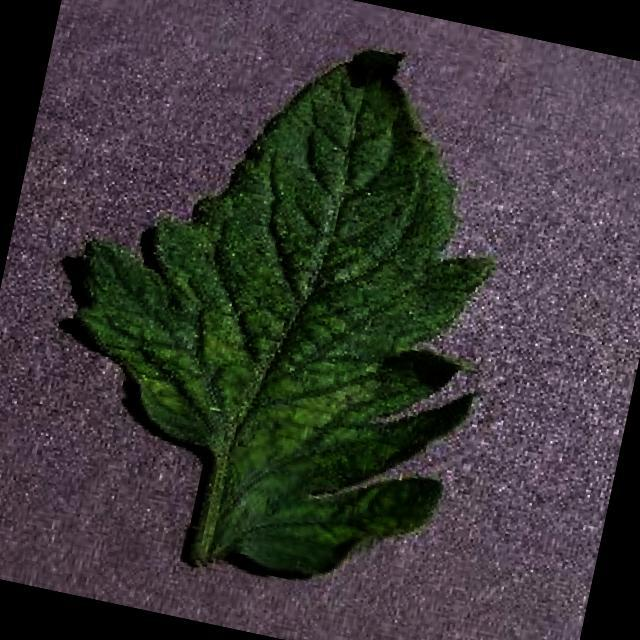Tomato mosaic virus leaf: (26, 0, 545, 609)
